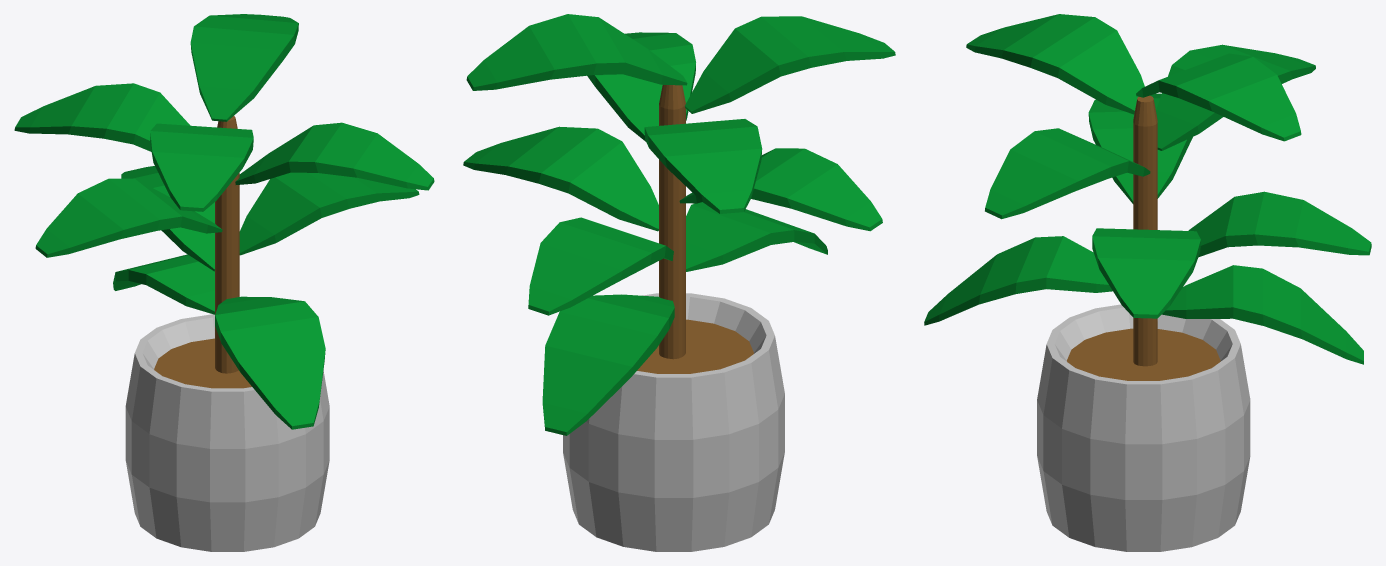
Rendered from Tree Pot_2.fbx.
The picture shows the model from 3 angles, left to right: view 1: azimuth 30°, elevation 25°; view 2: azimuth 150°, elevation 25°; view 3: azimuth 270°, elevation 25°; orthographic projection. The views are drawn at different scales.
Parts seen in each view (by area): view 1: Tree Pot_2; view 2: Tree Pot_2; view 3: Tree Pot_2.
Part boxes in pixels (x1=…): Tree Pot_2: x1=14, y1=14, x2=434, y2=551; Tree Pot_2: x1=463, y1=14, x2=895, y2=551; Tree Pot_2: x1=924, y1=14, x2=1371, y2=551.
Bounding box in the file's own units: 0.3149 × 0.3602 × 0.3127.
